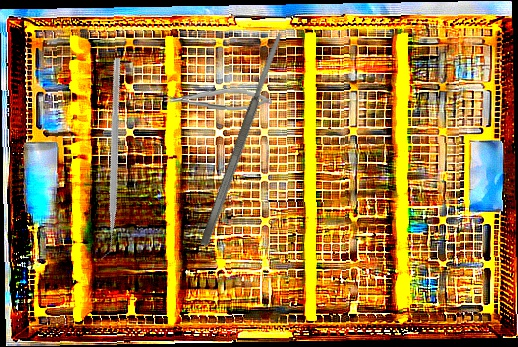Chopper: (14, 57, 202, 262)
Needle Holder: (163, 85, 273, 113)
Spatula Surgical: (197, 30, 287, 248)
